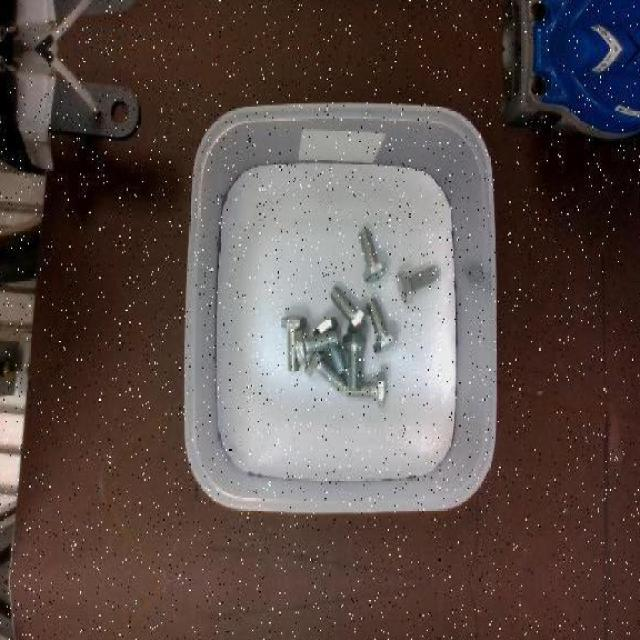screw: (358, 296, 398, 352), (323, 284, 368, 332), (358, 228, 388, 283), (397, 265, 439, 304), (294, 328, 338, 365), (342, 331, 366, 389)
